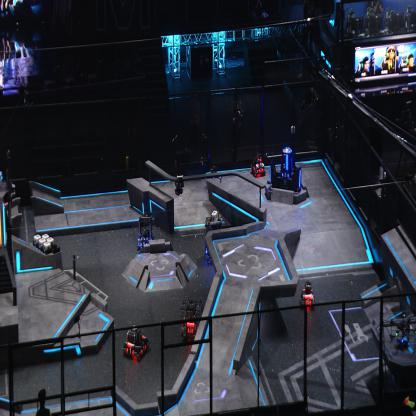car: (180, 294, 205, 342), (122, 323, 151, 361), (203, 214, 225, 264), (136, 215, 154, 251), (300, 280, 315, 311), (251, 151, 267, 177), (206, 164, 222, 188)
